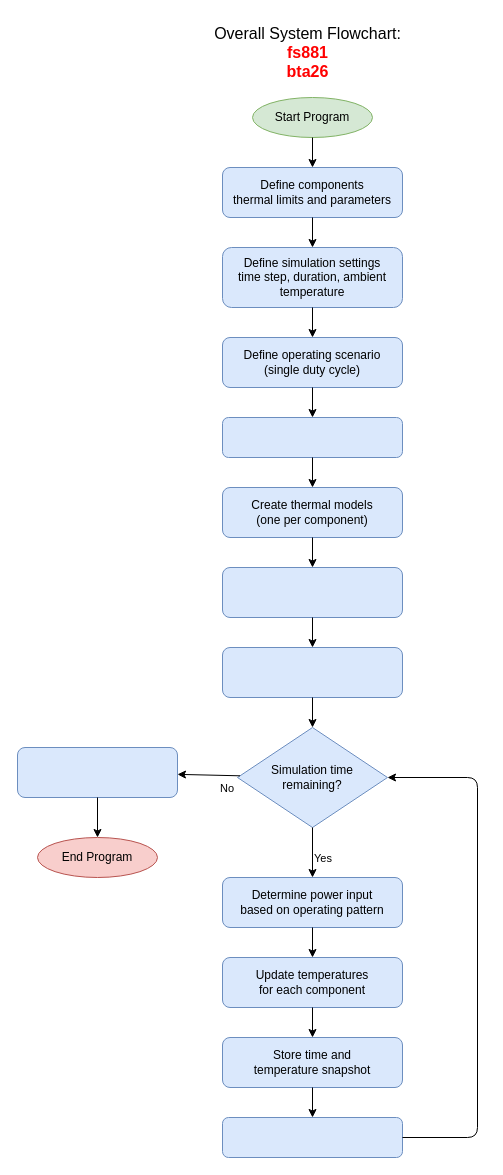
This 503x1175 diagram has some shape labels left out. The shapes that lost their labels are listed below. From the top down, each one's centre as x and y in pixels, then its label:
pixel 312 437: Create component list
pixel 312 592: Initialise temperature state for all components
pixel 312 672: Initialise empty time-history storage
pixel 97 772: Display temperature plot
pixel 312 1137: Advance time step
